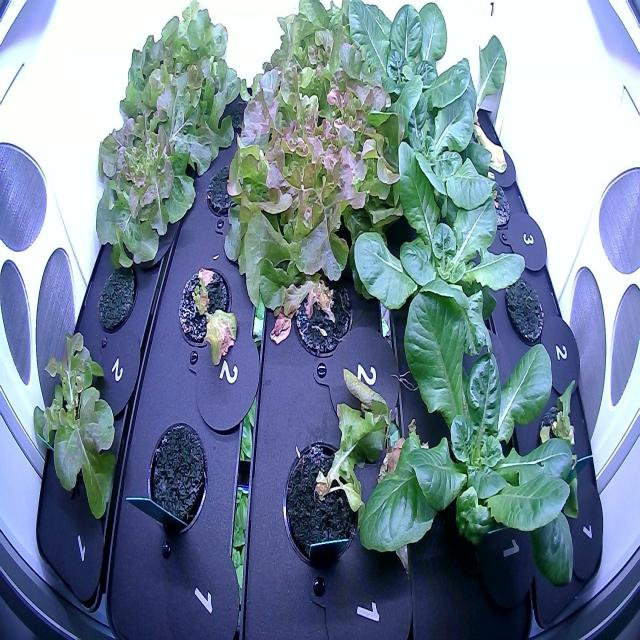pod: (139, 414, 214, 546), (91, 249, 142, 341), (502, 264, 550, 351)
young: (339, 275, 593, 607), (347, 133, 530, 372), (344, 49, 492, 222), (334, 0, 477, 129)
